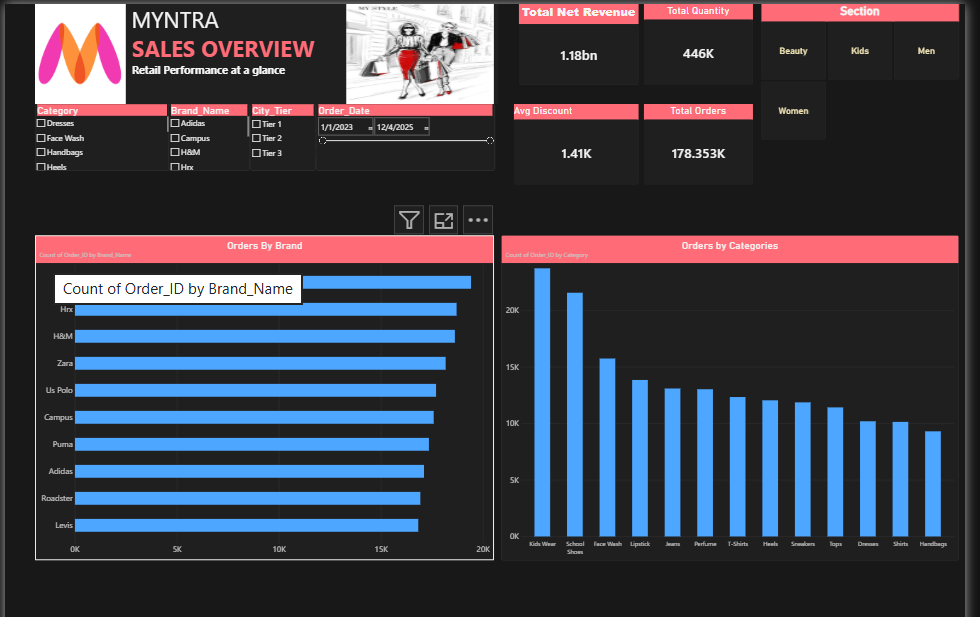

The dashboard page shown, as its layout file describes it:
{"tool":"powerbi","page":{"name":"Sales Overview","canvas":[3840,2700],"ordinal":0},"visuals":[{"type":"cardVisual","title":"Total Net Revenue","fields":{"Data":["Sum(myntra_orders_master.Net_Revenue)"]},"box":[2056.7,0,480,323.3],"z":0},{"type":"cardVisual","title":"Total Orders","fields":{"Data":["Count(myntra_orders_master.Order_ID)"]},"box":[2553.3,400,436.7,323.3],"z":1000},{"type":"cardVisual","title":"Total Quantity","fields":{"Data":["Sum(myntra_orders_master.Quantity)"]},"box":[2553.3,0,436.7,323.3],"z":2000},{"type":"clusteredColumnChart","title":"Orders by Categories","fields":{"Category":["myntra_orders_master.Category"],"Y":["Count(myntra_orders_master.Order_ID)"]},"box":[1983.3,926.7,1830,1300],"z":3000},{"type":"clusteredBarChart","title":"Orders By Brand","fields":{"Category":["myntra_orders_master.Brand_Name"],"Y":["Count(myntra_orders_master.Order_ID)"]},"box":[120,926.7,1836.7,1300],"z":4000},{"type":"slicer","fields":{"Values":["myntra_orders_master.City_Tier"]},"box":[980,400,263.3,266.7],"z":5000},{"type":"slicer","fields":{"Values":["myntra_orders_master.Category"]},"box":[120,400,536.7,266.7],"z":6000},{"type":"slicer","fields":{"Values":["myntra_orders_master.Brand_Name"]},"box":[656.7,400,323.3,266.7],"z":7000},{"type":"textbox","box":[120,0,1853.3,400],"z":8000},{"type":"image","box":[120,0,363.3,400],"z":9000},{"type":"cardVisual","title":"Avg Discount","fields":{"Data":["Avg(myntra_orders_master.Discount)"]},"box":[2036.7,400,500,323.3],"z":9001},{"type":"image","box":[1366.7,0,590,400],"z":9002},{"type":"advancedSlicerVisual","title":"Section","fields":{"Values":["myntra_orders_master.Gender"]},"box":[3023.3,0,790,543.3],"z":9003},{"type":"slicer","fields":{"Values":["myntra_orders_master.Order_Date"]},"box":[1243.3,400,713.3,266.7],"z":9004}]}

Visuals, with their boxes on the page's 3840x2700 design canvas (x1, y1, x2, y2). These are canvas units, not pixel positions in the 980x617 screenshot, which may show the page scaled, cropped or inside an application window:
"Total Net Revenue" cardVisual: box(2057, 0, 2537, 323)
"Total Orders" cardVisual: box(2553, 400, 2990, 723)
"Total Quantity" cardVisual: box(2553, 0, 2990, 323)
"Orders by Categories" clusteredColumnChart: box(1983, 927, 3813, 2227)
"Orders By Brand" clusteredBarChart: box(120, 927, 1957, 2227)
slicer - myntra_orders_master.City_Tier: box(980, 400, 1243, 667)
slicer - myntra_orders_master.Category: box(120, 400, 657, 667)
slicer - myntra_orders_master.Brand_Name: box(657, 400, 980, 667)
textbox: box(120, 0, 1973, 400)
image: box(120, 0, 483, 400)
"Avg Discount" cardVisual: box(2037, 400, 2537, 723)
image: box(1367, 0, 1957, 400)
"Section" advancedSlicerVisual: box(3023, 0, 3813, 543)
slicer - myntra_orders_master.Order_Date: box(1243, 400, 1957, 667)
